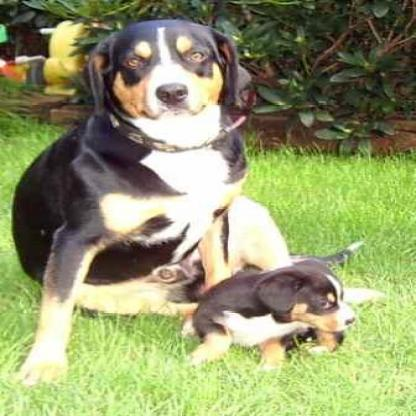EntleBucher: (7, 17, 292, 410), (172, 256, 360, 382)
